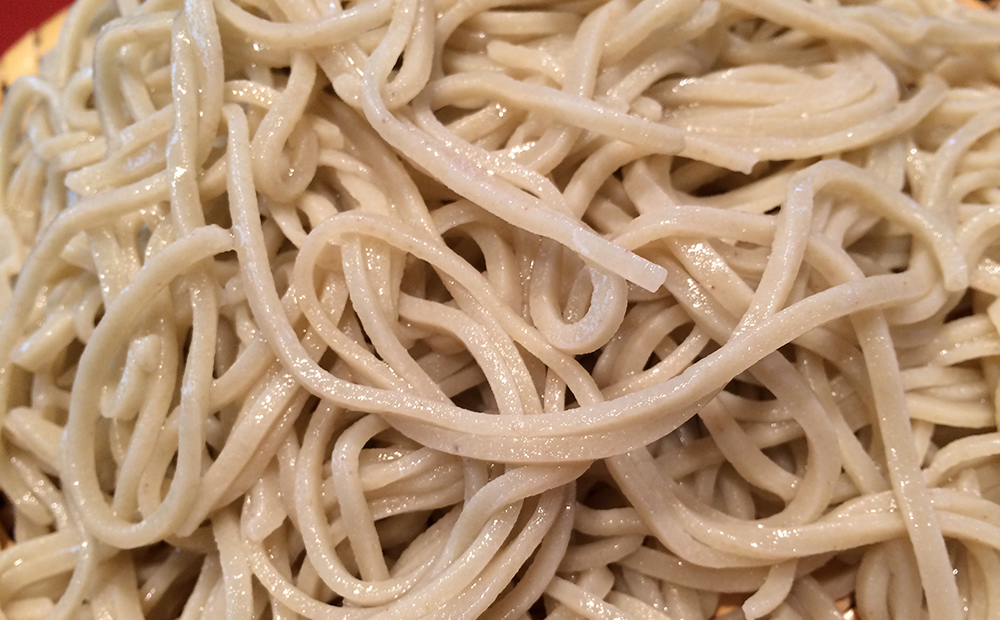Soba: (4, 1, 1000, 615)
